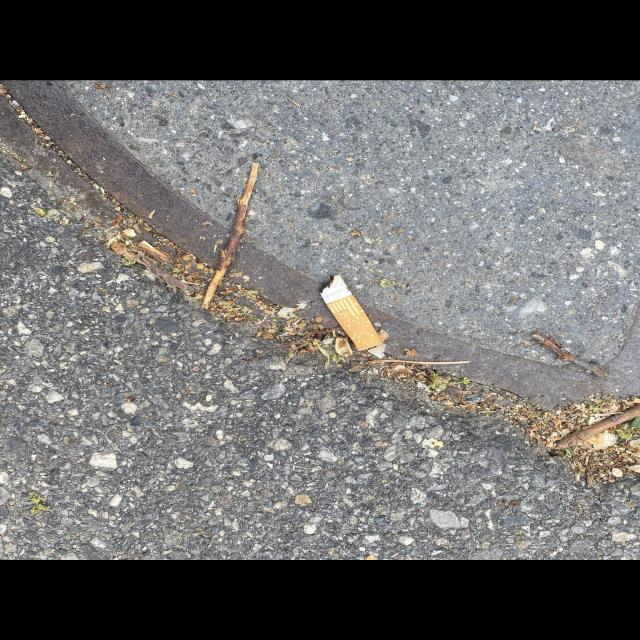other waste: (318, 274, 382, 350)
